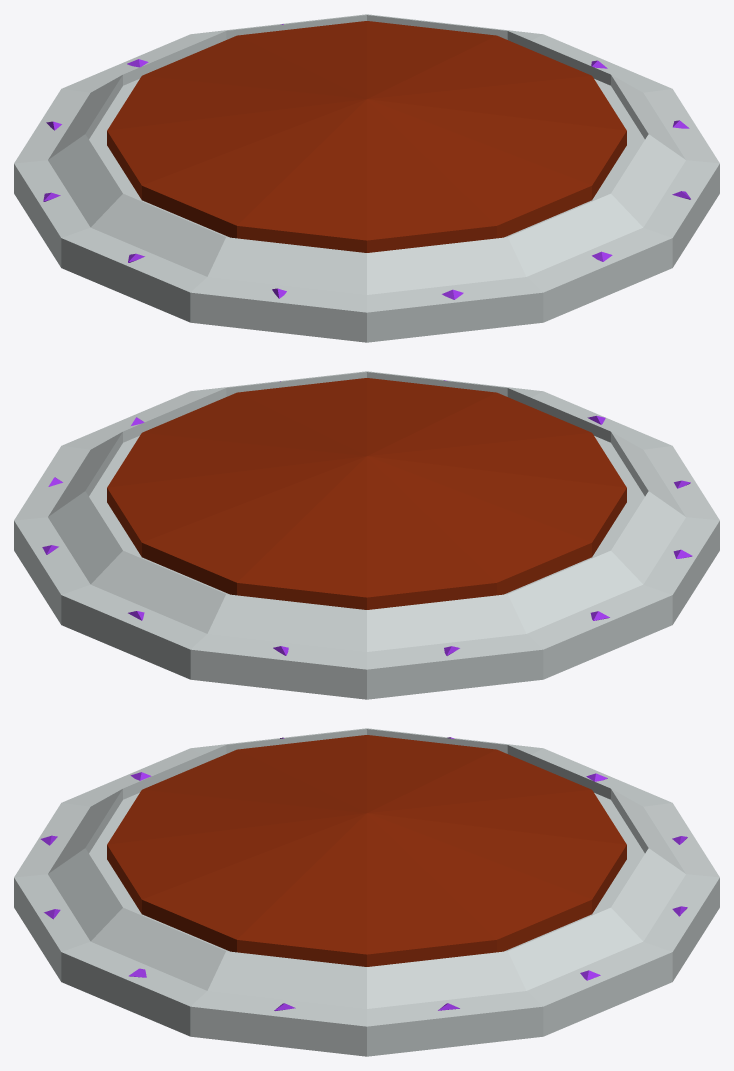
File: Shield-Pickup.fbx
The picture shows the model from 3 angles, top to bottom: view 1: azimuth 30°, elevation 25°; view 2: azimuth 150°, elevation 25°; view 3: azimuth 270°, elevation 25°; orthographic projection.
Visible parts, largest first — view 1: Shield; view 2: Shield; view 3: Shield.
Boxes of the visible parts, left/top/right/bottom form: Shield: left=14, top=14, right=719, bottom=342; Shield: left=14, top=371, right=719, bottom=699; Shield: left=14, top=728, right=719, bottom=1056.
Bounding box in the file's own units: 5 × 0.7374 × 5.
